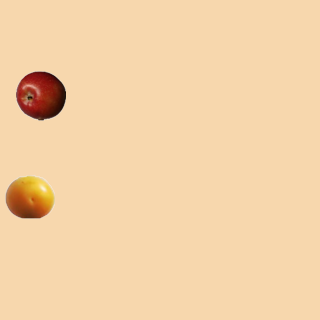Apple Braeburn: (15, 70, 65, 120)
Cherry Wax Yellow: (4, 171, 54, 221)
